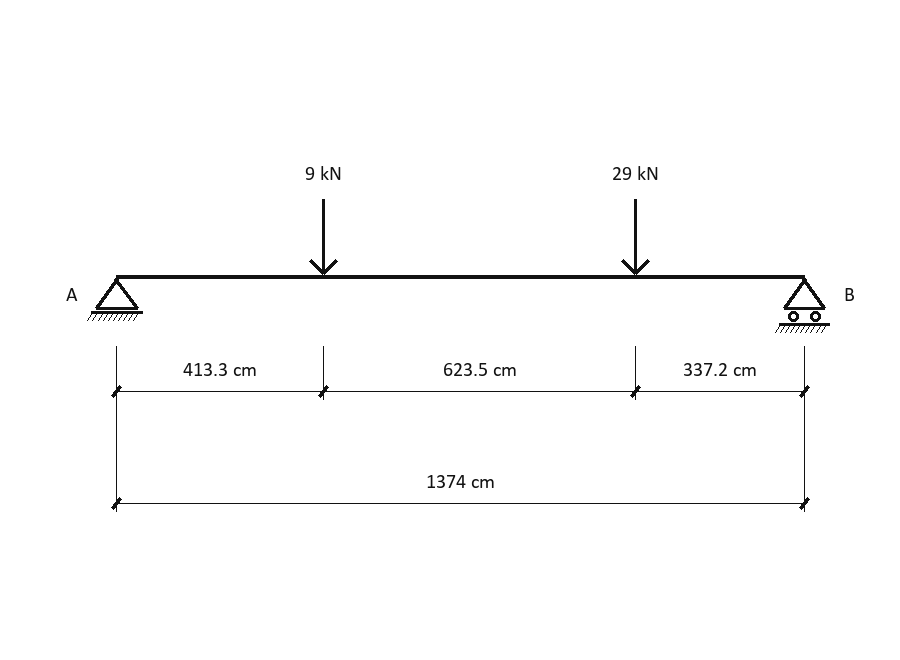pin_support: (87, 278, 143, 321)
point_load: (309, 199, 338, 275), (621, 199, 650, 275)
roller_support: (775, 278, 830, 333)
